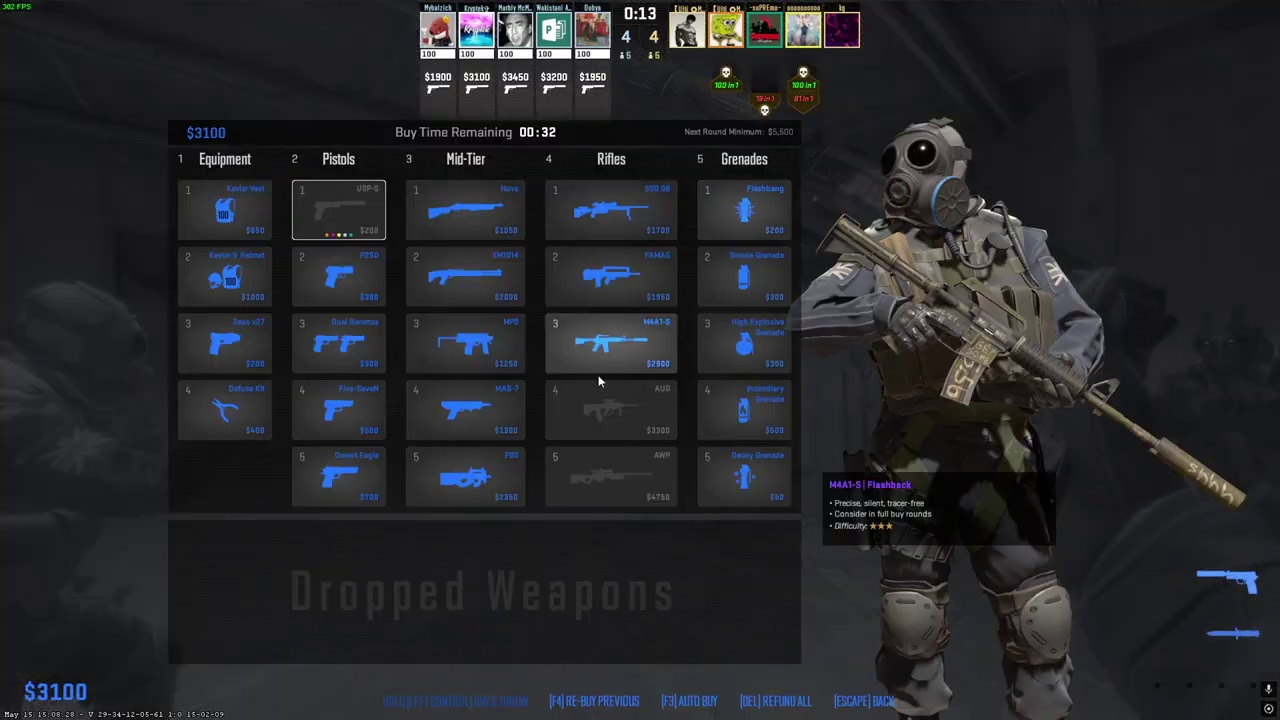CT: (851, 120, 1092, 720), (0, 285, 161, 720)
